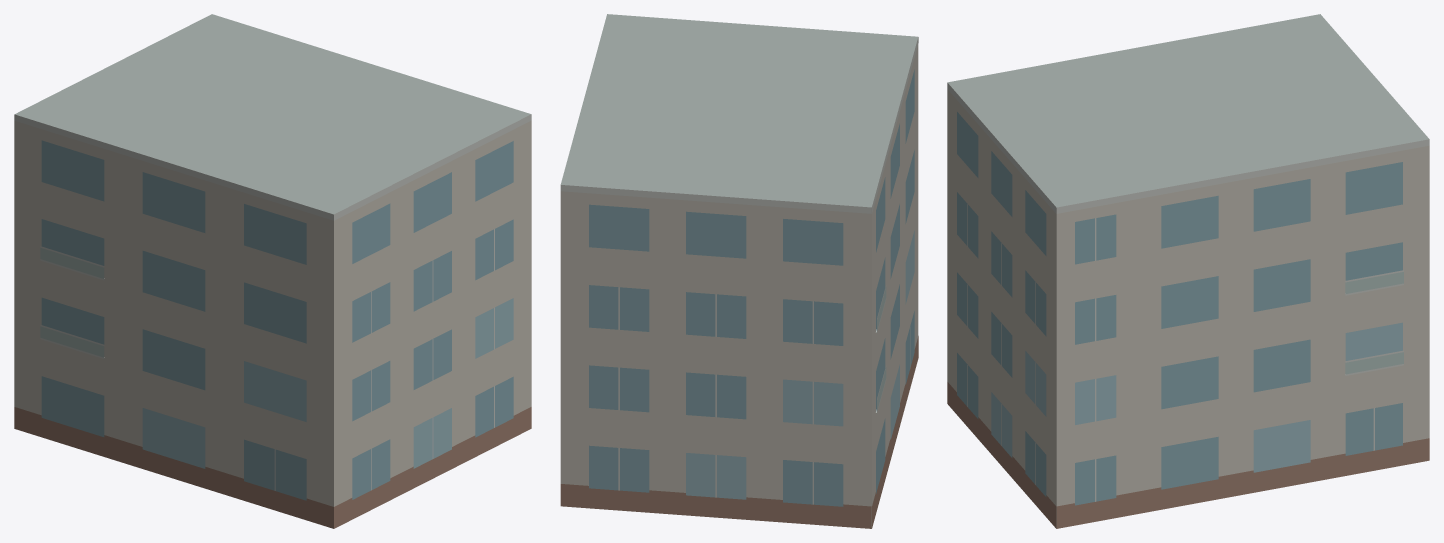
Rendered from survey-upis-32973205.glb.
The picture shows the model from 3 angles, left to right: view 1: azimuth 30°, elevation 25°; view 2: azimuth 150°, elevation 25°; view 3: azimuth 270°, elevation 25°; orthographic projection. The views are drawn at different scales.
Visible parts, largest first — view 1: survey-upis-32973205.tmp; view 2: survey-upis-32973205.tmp; view 3: survey-upis-32973205.tmp.
Part boxes in pixels (left/top/right/bottom): survey-upis-32973205.tmp: left=14, top=14, right=531, bottom=528; survey-upis-32973205.tmp: left=560, top=14, right=918, bottom=528; survey-upis-32973205.tmp: left=947, top=14, right=1429, bottom=528.
Bounding box in the file's own units: 15.77 × 12.2 × 16.6.
